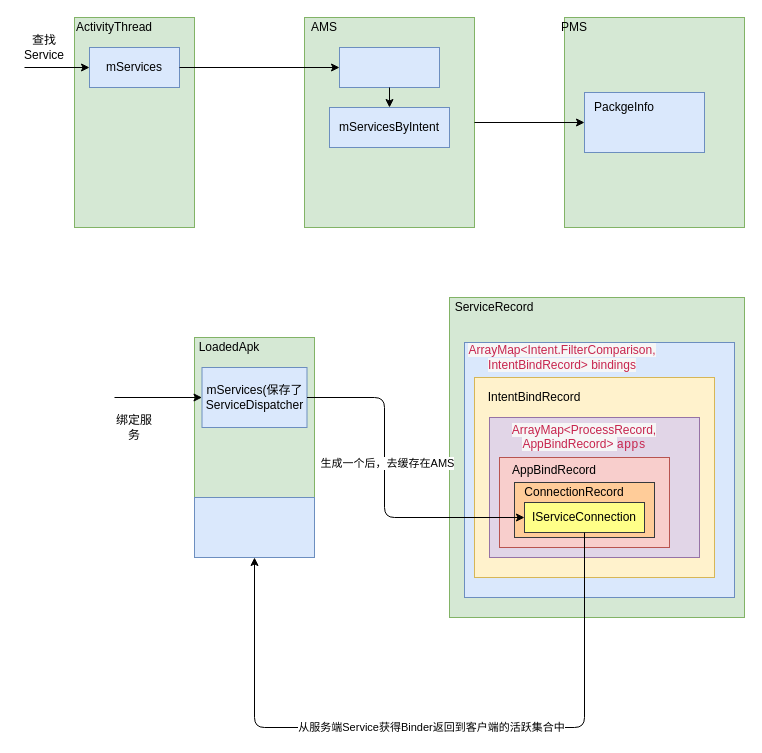
This 762x753 diagram has some shape labels left out. Each missing label, with the box of its shape:
mActiveConnections: (194, 496, 314, 558)
mServicesByName: (338, 46, 440, 88)
